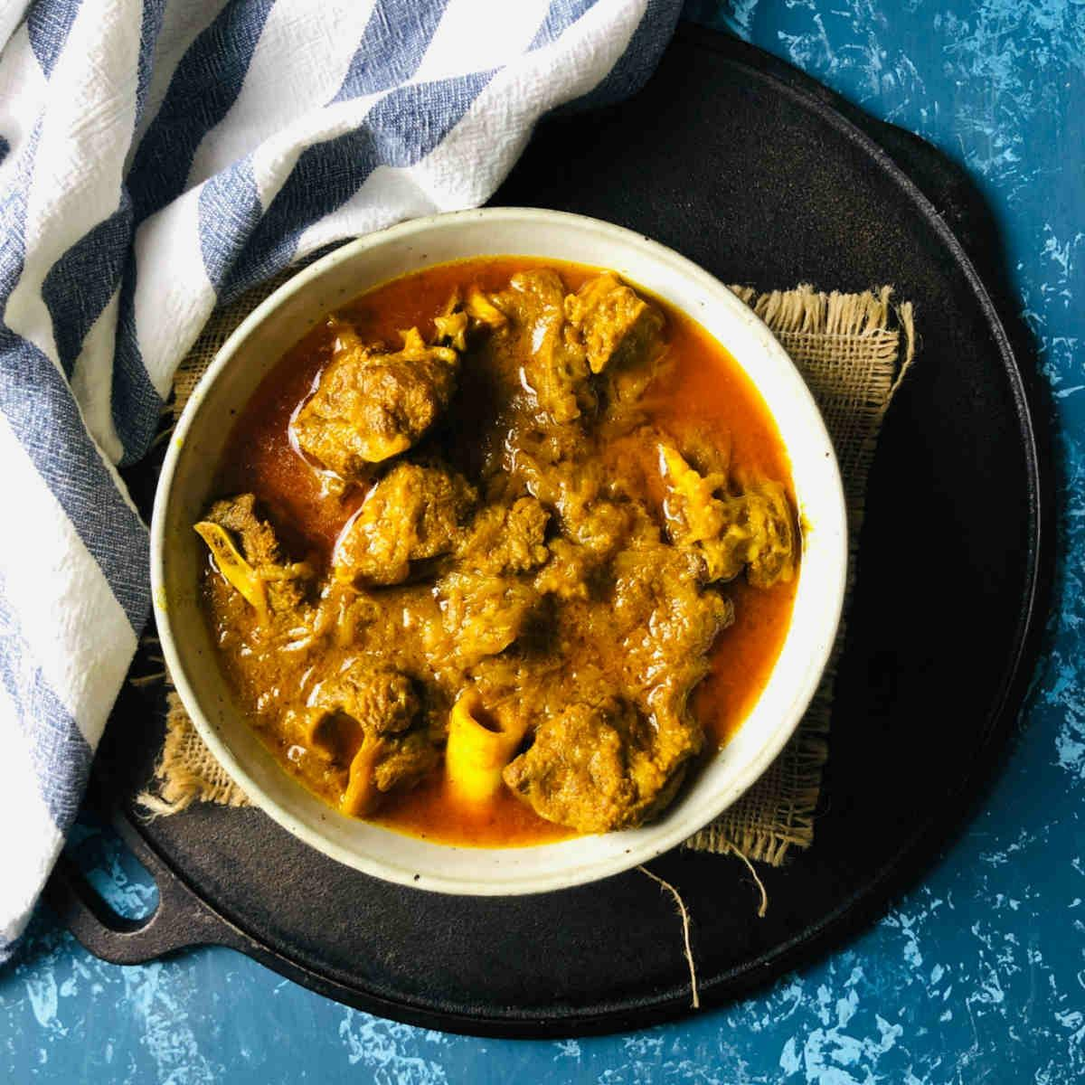MuttonCurry: (188, 255, 804, 840)
